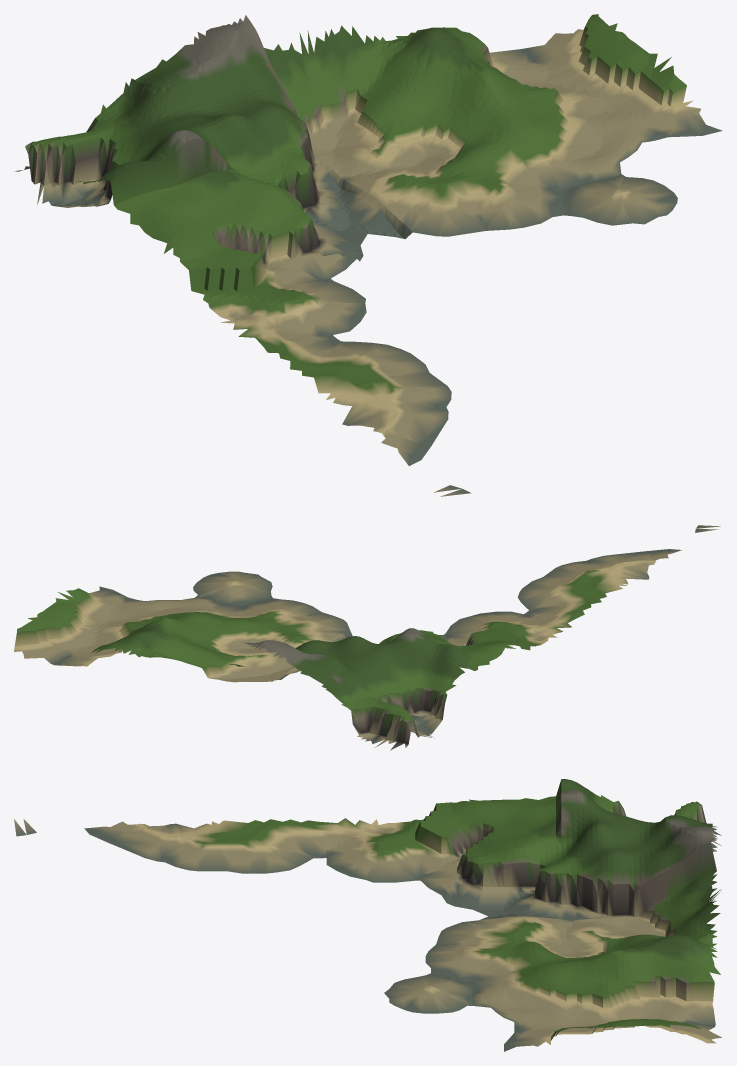
File: coast_tile_x1z2_lod1.glb
The picture shows the model from 3 angles, top to bottom: view 1: azimuth 30°, elevation 25°; view 2: azimuth 150°, elevation 25°; view 3: azimuth 270°, elevation 25°; orthographic projection. The views are drawn at different scales.
Parts seen in each view (by area): view 1: geometry_0; view 2: geometry_0; view 3: geometry_0.
Boxes of the visible parts, x1,y1,x2,y2 form: geometry_0: (14, 14, 722, 496); geometry_0: (14, 525, 720, 750); geometry_0: (14, 779, 721, 1051).
Bounding box in the file's own units: 630 × 108 × 816.
